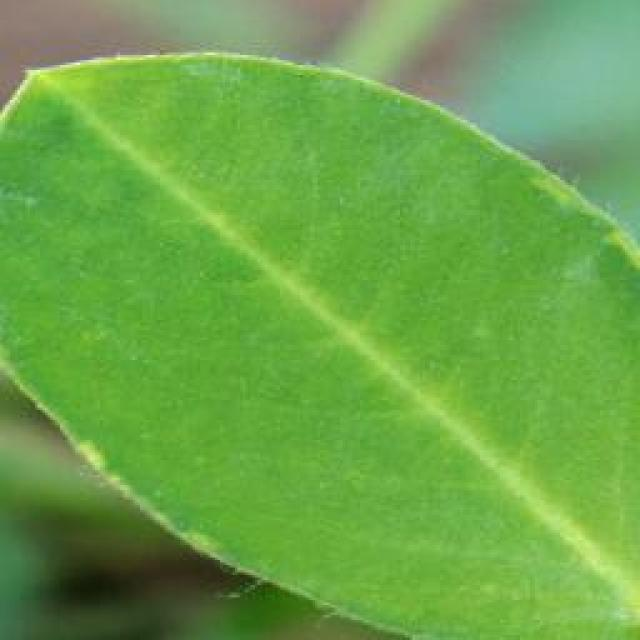Yellow_and_black_sigatoka: (0, 49, 640, 640)
